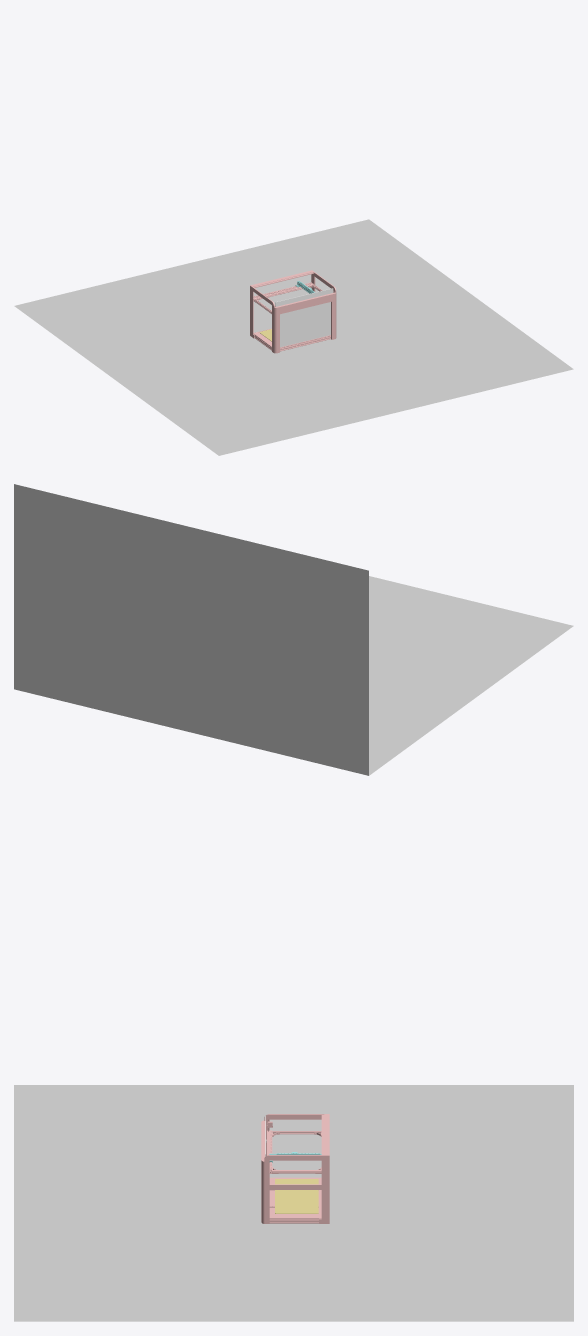
The model's file is xyz.gltf.
3 renders of one model, top to bottom at view 1: azimuth 30°, elevation 25°; view 2: azimuth 150°, elevation 25°; view 3: azimuth 270°, elevation 25°, orthographic. The views are drawn at different scales.
Parts seen in each view (by area): view 1: 平面, frame, glass; view 2: 平面; view 3: 平面, frame, floor.
Part boxes in pixels (x1=…): 平面: x1=14, y1=219, x2=573, y2=455; frame: x1=250, y1=270, x2=336, y2=353; glass: x1=275, y1=288, x2=333, y2=347; 平面: x1=14, y1=484, x2=573, y2=775; 平面: x1=14, y1=1085, x2=573, y2=1321; frame: x1=261, y1=1114, x2=329, y2=1223; floor: x1=275, y1=1179, x2=318, y2=1213.
Size of the model in its own units: 410 by 227 by 410.
